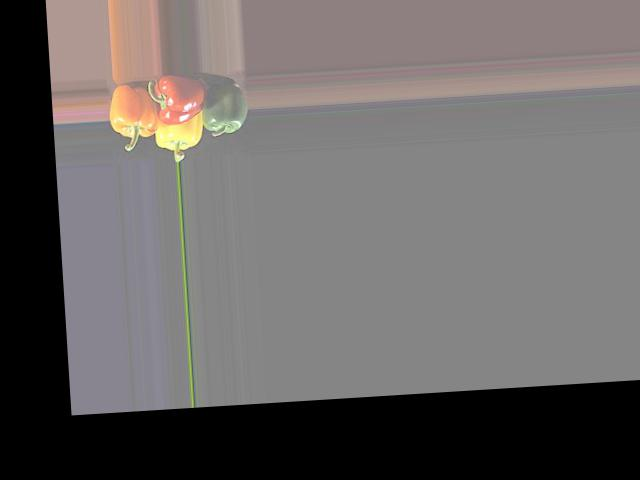bell_pepper: (107, 73, 161, 145)
